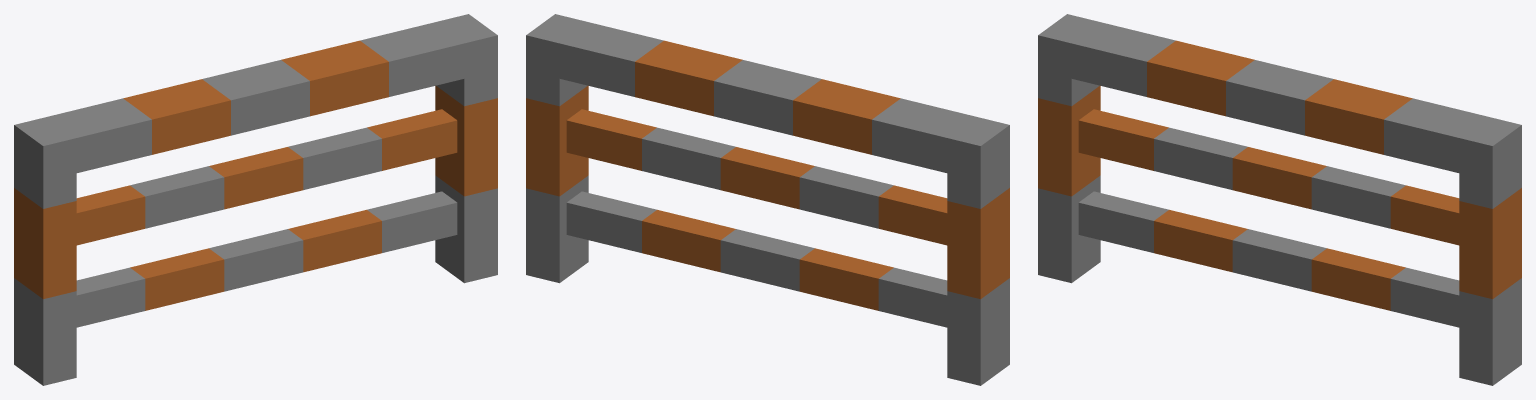
Rendered from Gate.fbx.
3 views of the same model, side by side, from view 1: azimuth 30°, elevation 25°; view 2: azimuth 150°, elevation 25°; view 3: azimuth 330°, elevation 25° (orthographic).
Parts seen in each view (by area): view 1: Gate; view 2: Gate; view 3: Gate.
Boxes of the visible parts, bbox=[...] form: Gate: bbox=[14, 14, 497, 385]; Gate: bbox=[526, 14, 1009, 385]; Gate: bbox=[1038, 14, 1521, 385].
Size of the model in its own units: 247 by 125 by 27.39.
